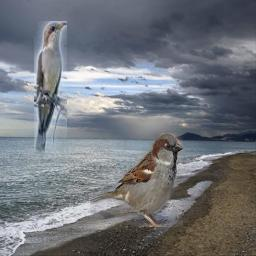Cuckoo: (34, 21, 67, 173)
Sparrow: (90, 133, 183, 227)
